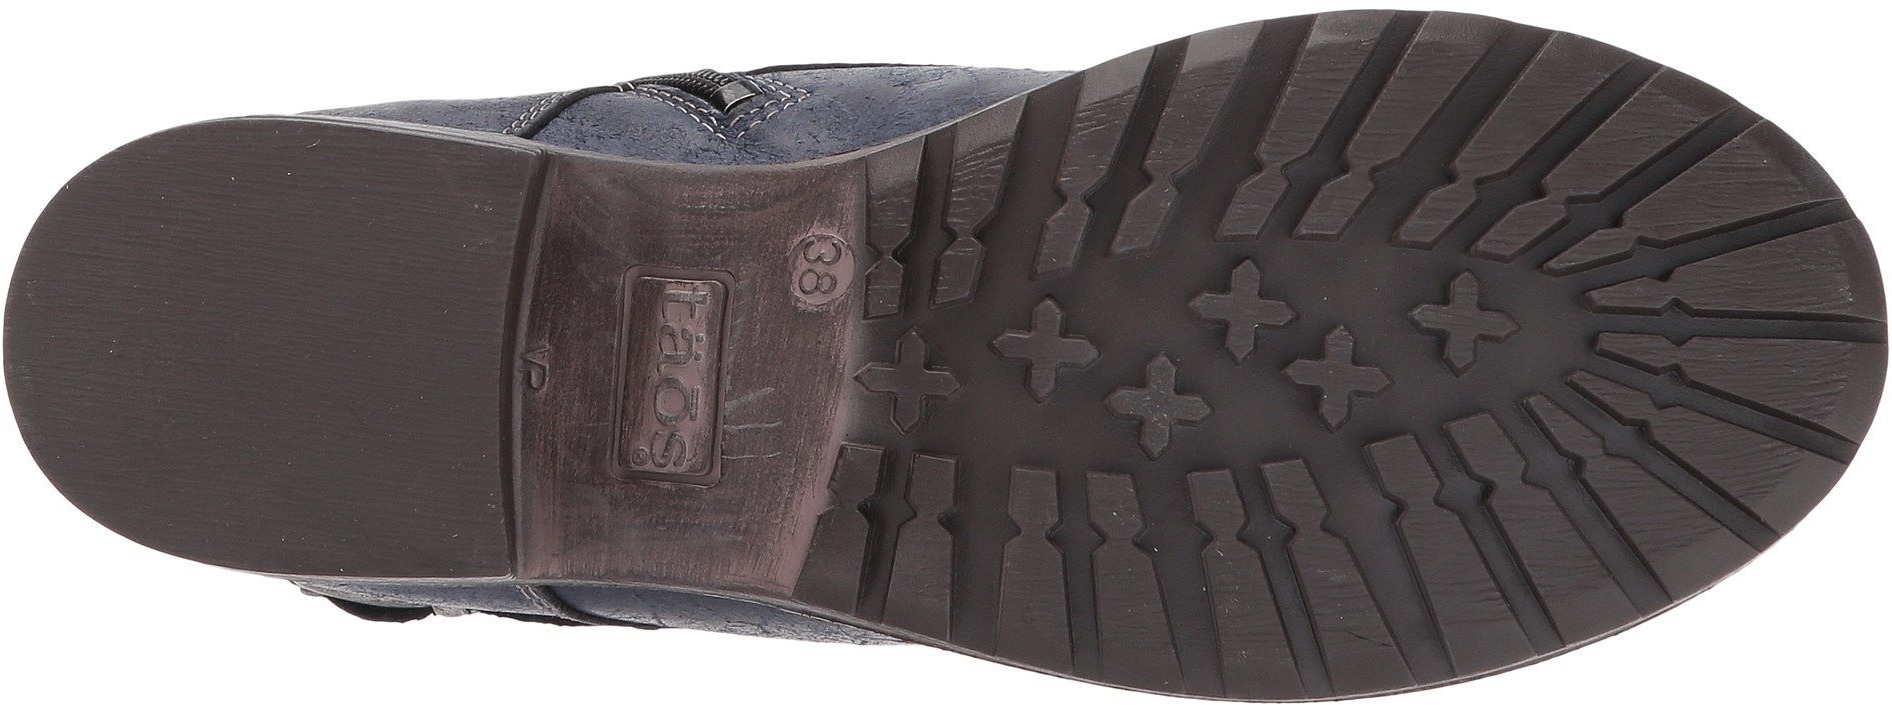bowtie: (1561, 183, 1820, 401), (1002, 449, 1252, 662), (1211, 23, 1437, 246), (1371, 416, 1598, 620)
other: (58, 191, 328, 429), (338, 241, 506, 388)
star: (1191, 247, 1321, 374), (1402, 268, 1524, 383), (982, 297, 1097, 413), (862, 332, 957, 435)
